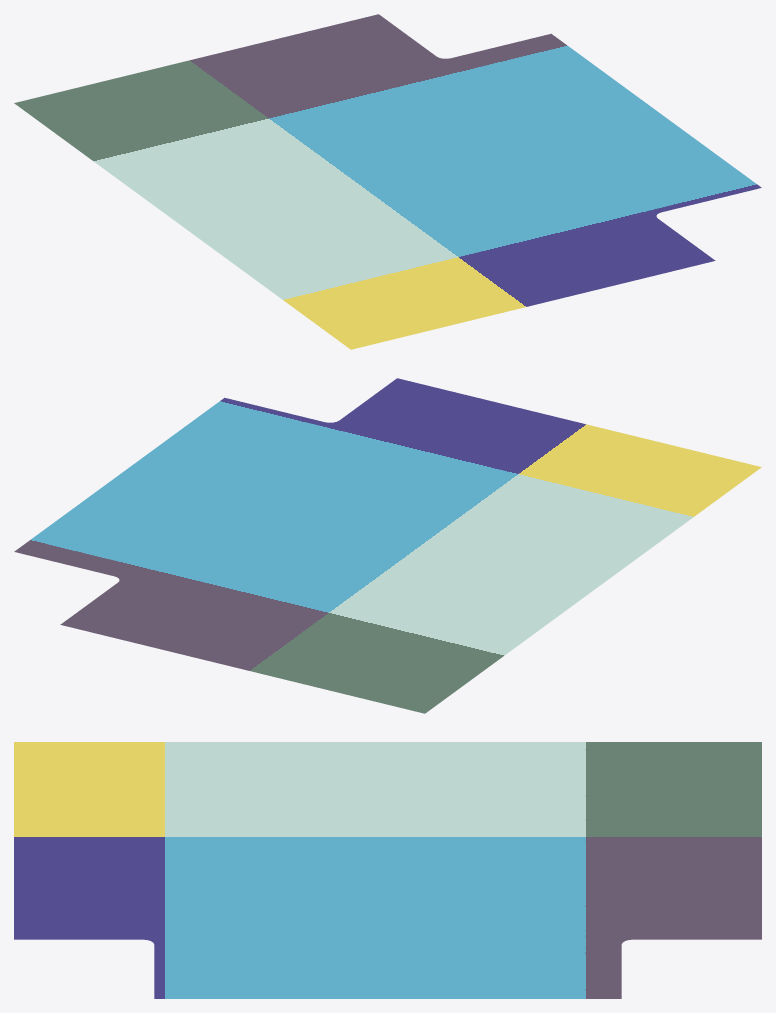
Rendered from RoadPart_03.fbx.
3 renders of one model, top to bottom at view 1: azimuth 30°, elevation 25°; view 2: azimuth 150°, elevation 25°; view 3: azimuth 270°, elevation 25°, orthographic. The views are drawn at different scales.
Parts seen in each view (by area): view 1: Plane.002; view 2: Plane.002; view 3: Plane.002.
Boxes of the visible parts, bbox=[...] form: Plane.002: bbox=[14, 14, 761, 349]; Plane.002: bbox=[14, 378, 761, 713]; Plane.002: bbox=[14, 742, 761, 998].
Size of the model in its own units: 520 by 0.000104 by 640.
